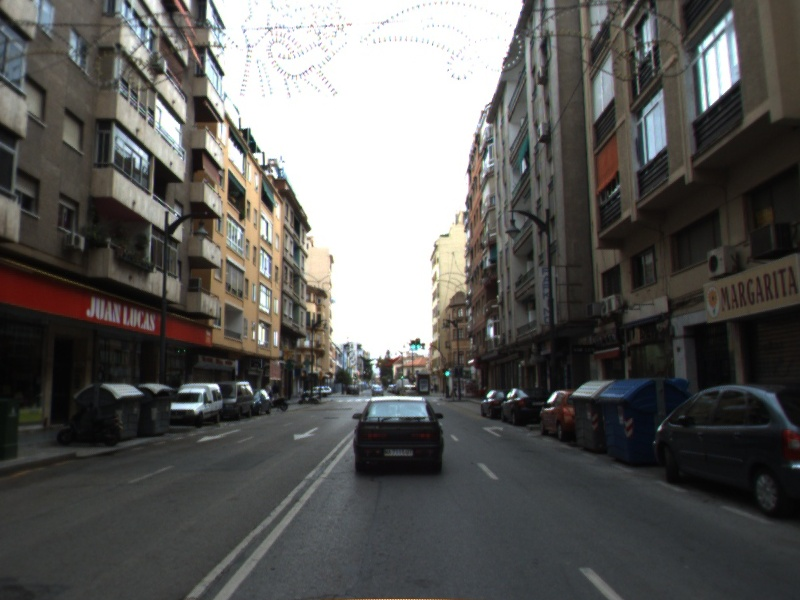RIGHT: (481, 423, 505, 438)
